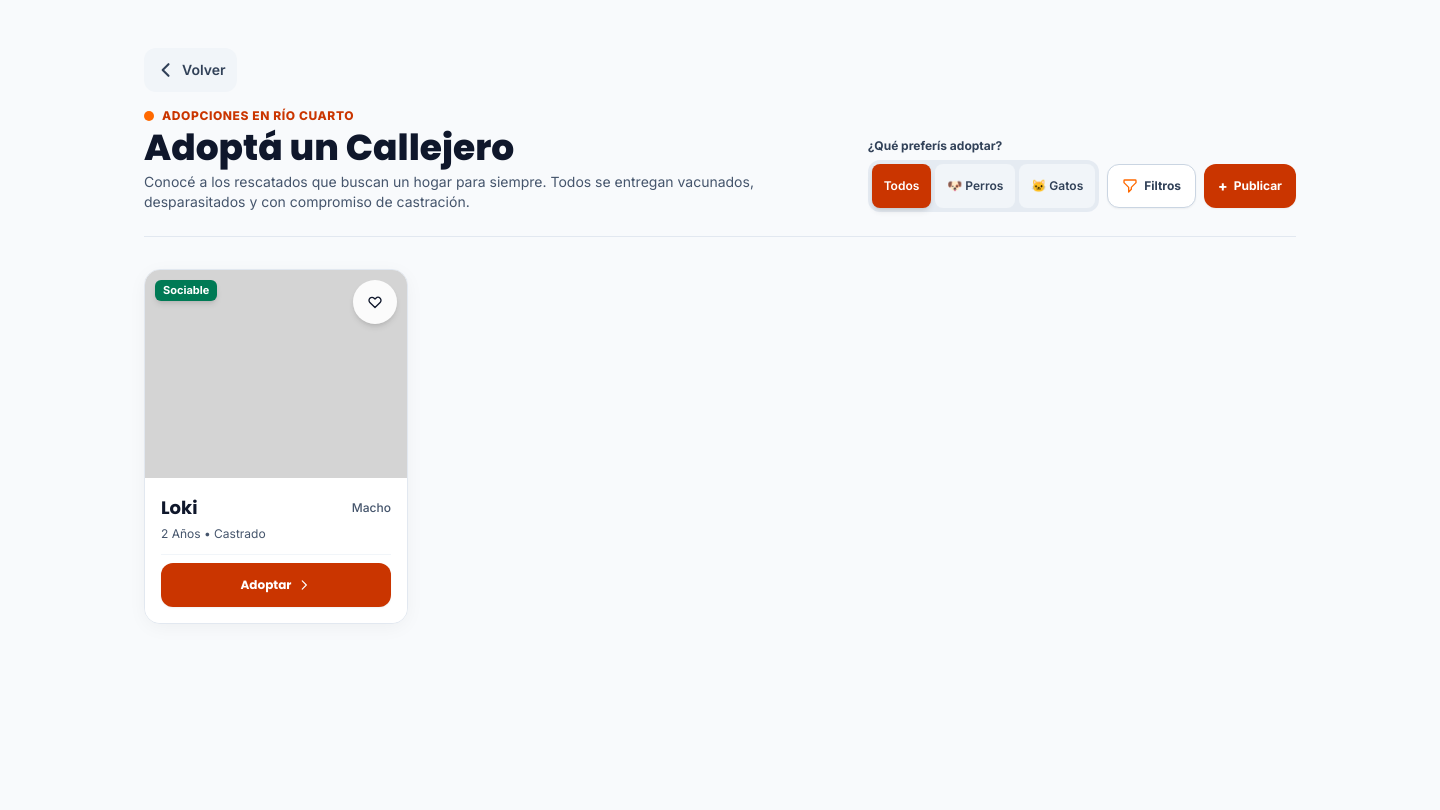
AdoptionCatalog › muestra estado vacío propio de favoritos cuando solo Favoritos está activo y permite volver
The image size is (1440, 810).
Expected: the heading "Loki" is shown, [161, 494, 198, 522]
Click the button with aria-label "Abrir filtros avanzados": click(1152, 186) [1107, 164, 1196, 208]
(page scrolled)
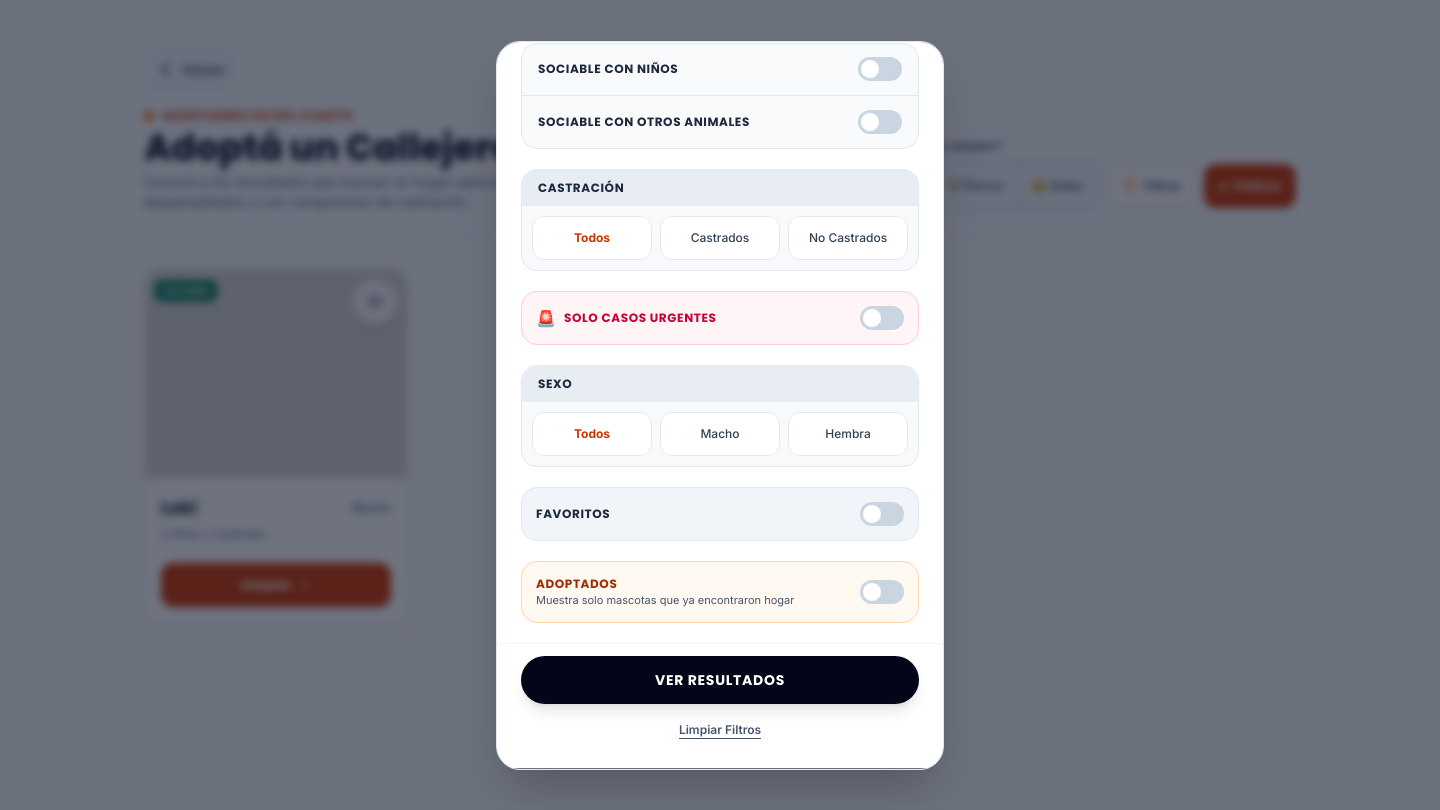
Click the checkbox labelled "Favoritos": click(573, 513) [521, 486, 919, 540]
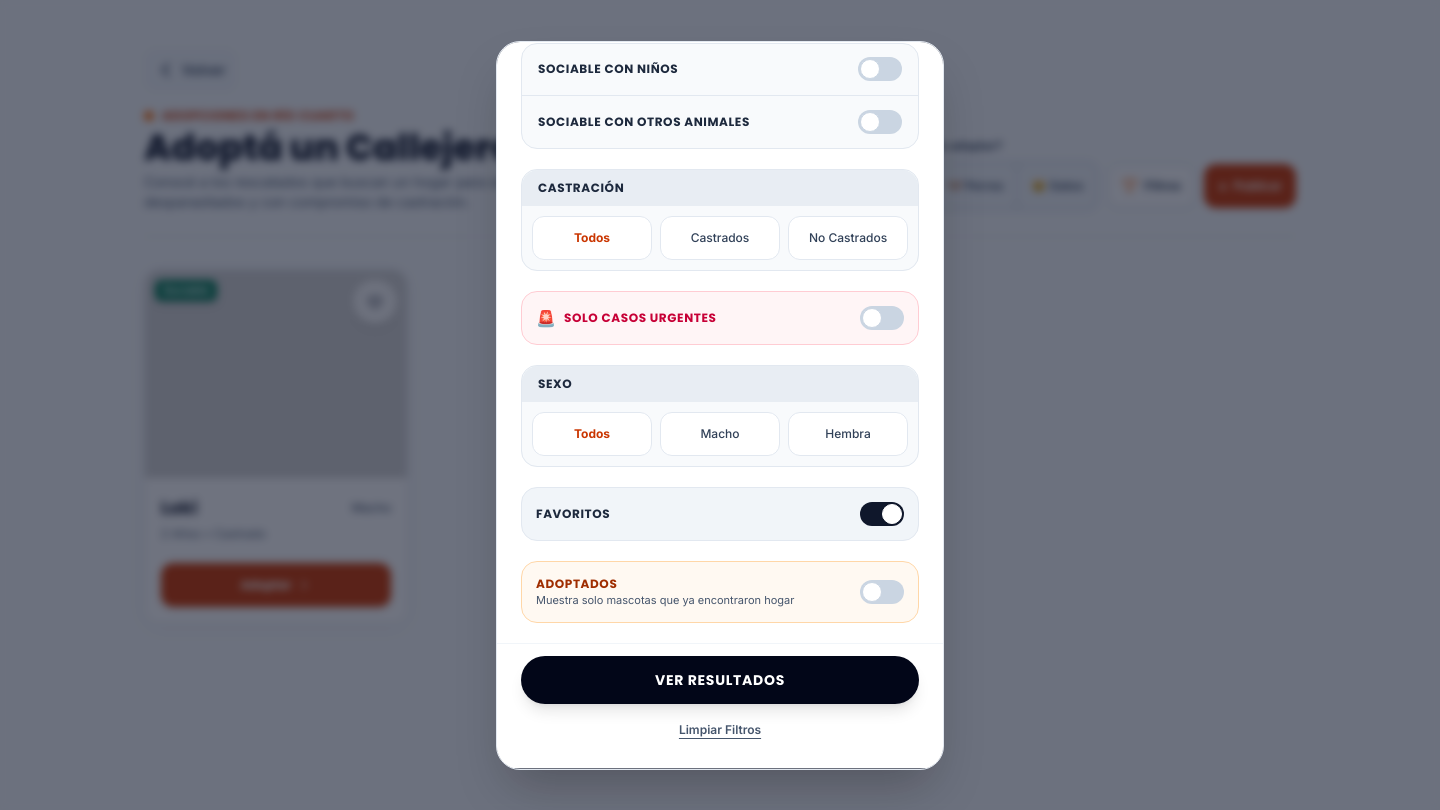
Click the button "VER RESULTADOS": click(720, 680) [521, 656, 919, 704]
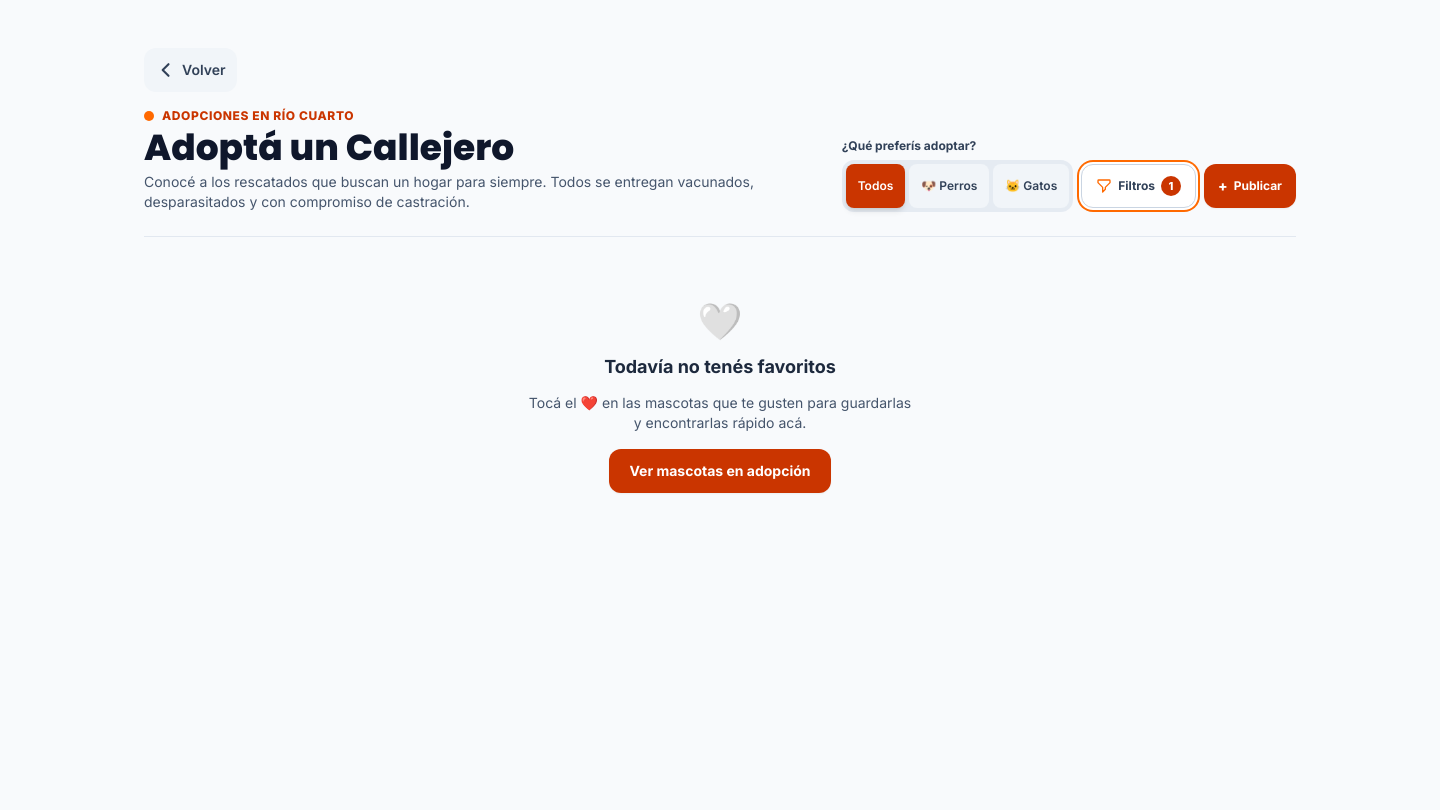
Result: the text "Todavía no tenés favoritos" is shown at [604, 353, 836, 381]
Result: the button with aria-label "Abrir filtros avanzados (1 activo)" is shown at [1081, 164, 1196, 208]
Click the button "Ver mascotas en adopción": click(720, 471) [610, 449, 831, 493]
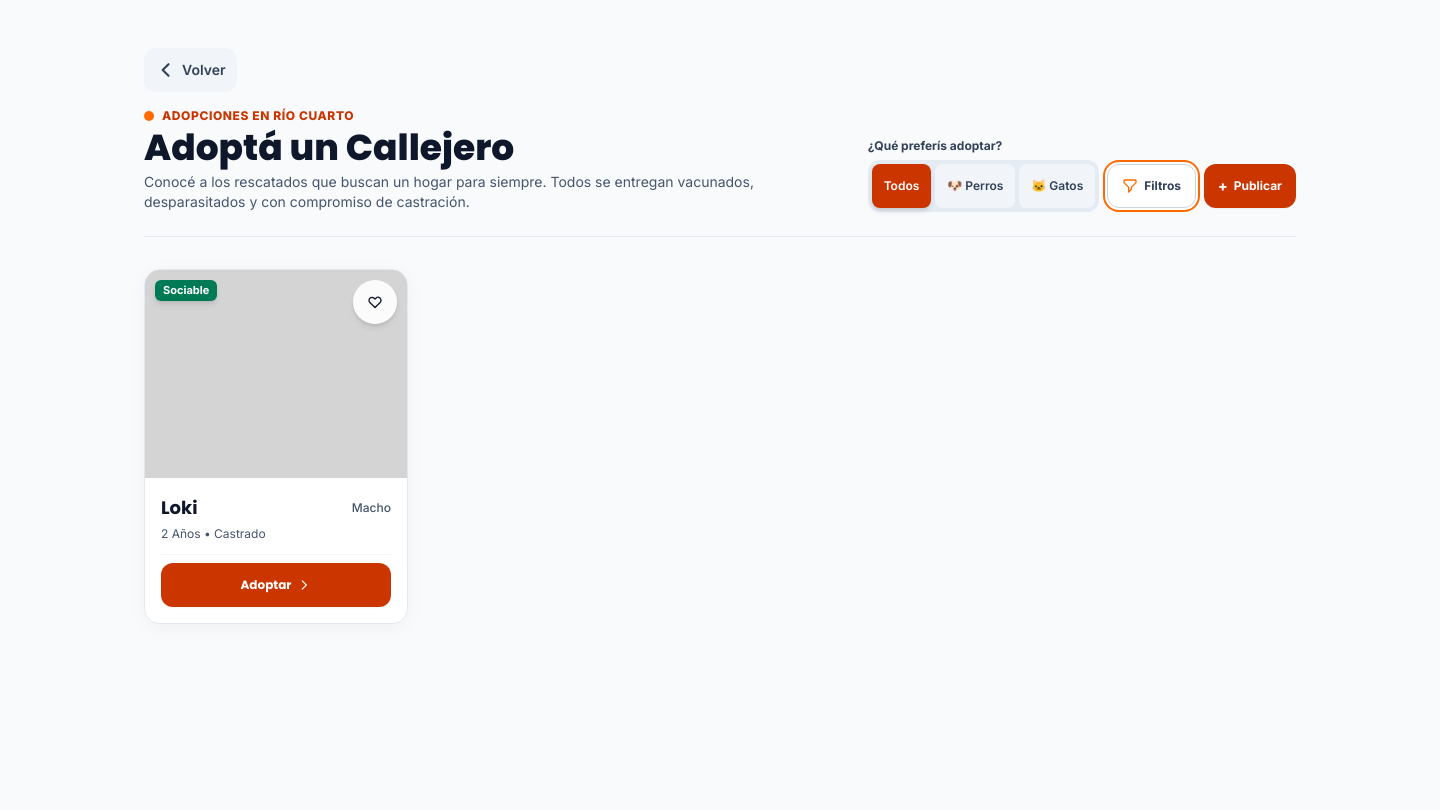
Result: the heading "Loki" is shown at [161, 494, 198, 522]
